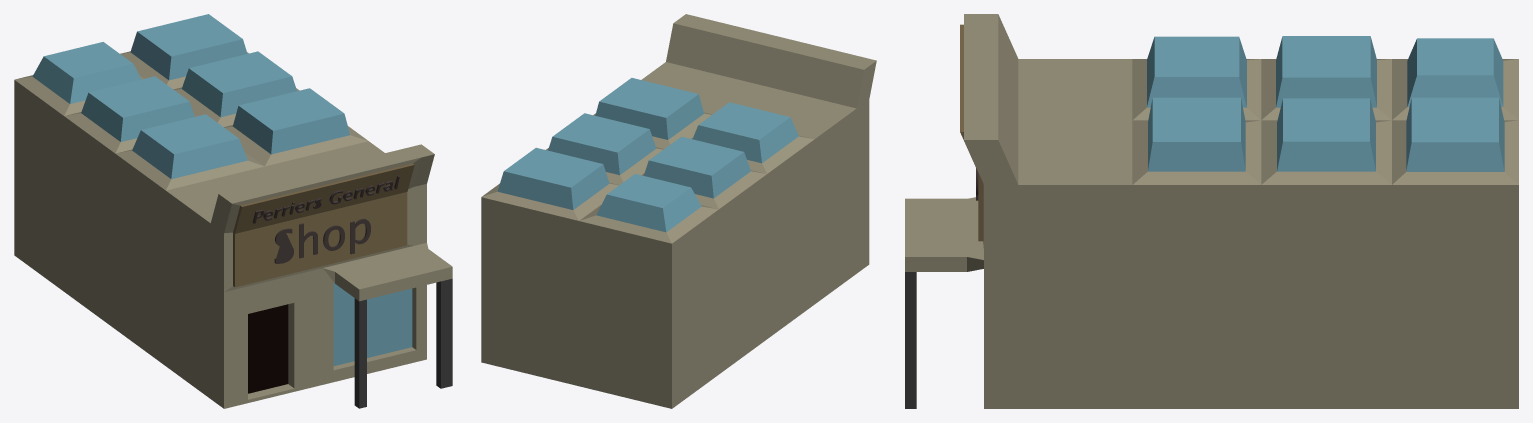
Rendered from shop.fbx.
3 views of the same model, side by side, from view 1: azimuth 30°, elevation 25°; view 2: azimuth 150°, elevation 25°; view 3: azimuth 270°, elevation 25° (orthographic). The views are drawn at different scales.
Parts seen in each view (by area): view 1: typeMesh6; view 2: typeMesh6; view 3: typeMesh6.
Boxes of the visible parts, box(x1,y1,x2,y2) form: typeMesh6: box(14, 14, 452, 408); typeMesh6: box(481, 14, 876, 408); typeMesh6: box(905, 14, 1518, 408).
Bounding box in the file's own units: 8.82 × 8.87 × 18.14.
